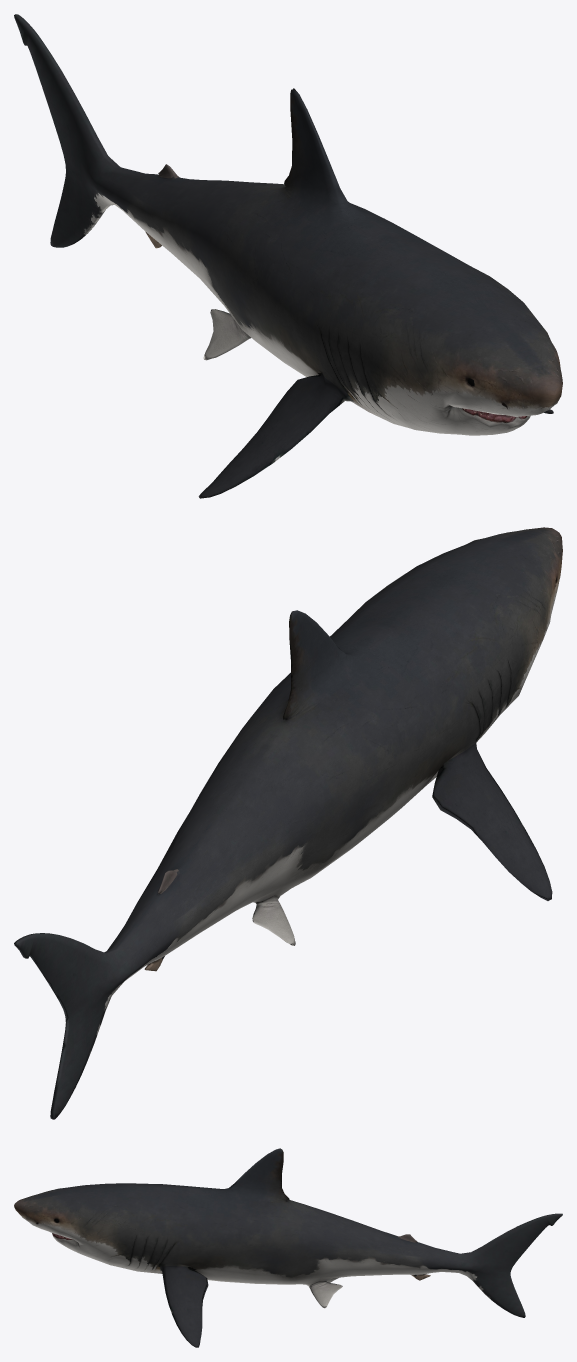
The model's file is Shark.glb.
The picture shows the model from 3 angles, top to bottom: view 1: azimuth 30°, elevation 25°; view 2: azimuth 150°, elevation 25°; view 3: azimuth 270°, elevation 25°; orthographic projection. The views are drawn at different scales.
Visible parts, largest first — view 1: pasted__polySurface13; view 2: pasted__polySurface13; view 3: pasted__polySurface13.
Boxes of the visible parts, box(x1,y1,x2,y2) form: pasted__polySurface13: box(14, 14, 562, 498); pasted__polySurface13: box(14, 527, 562, 1119); pasted__polySurface13: box(14, 1148, 562, 1347).
Bounding box in the file's own units: 0.0985 × 0.0888 × 0.2608.
Materials: 2 (1 with a texture image).
